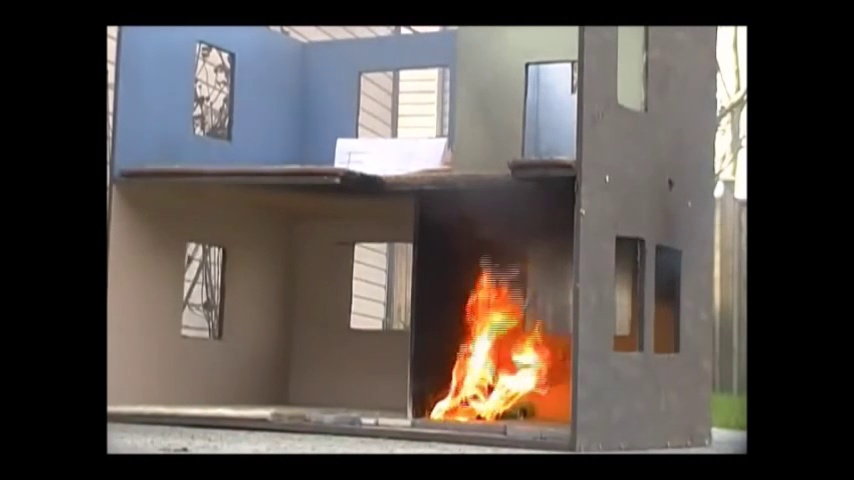fire: (437, 269, 543, 418)
